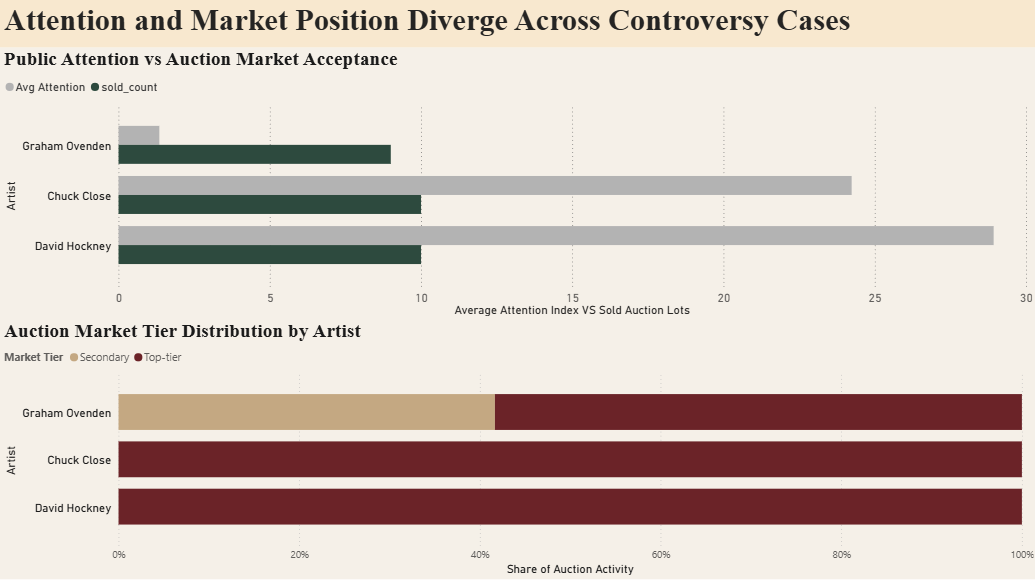

The page's visual inventory and layout, read from the dashboard file:
{"tool":"powerbi","page":{"name":"Attention & Market Position","canvas":[1280,720],"ordinal":2},"visuals":[{"type":"textbox","box":[0,0,1280.5,61.3],"z":0},{"type":"clusteredBarChart","title":"Public Attention vs Auction Market Acceptance","fields":{"Category":["dim_artist.artist_name"],"Y":["vw_attention_market_monthly.Avg Attention","Sum(vw_attention_market_monthly.sold_count)"]},"box":[0,60.5,1279.4,336.4],"z":1000},{"type":"hundredPercentStackedBarChart","title":"Auction Market Tier Distribution by Artist","fields":{"Category":["dim_artist.artist_name"],"Y":["vw_auction_enriched.Lot Count"],"Series":["vw_auction_enriched.Market Tier"]},"box":[0,396.9,1281.3,321.3],"z":2000}]}

Visuals, with their boxes in screenshot pixels (x1, y1, x2, y2), scaled from the page's 1280x720 canvas onto the 1035x581 screenshot:
textbox: (x1=0, y1=0, x2=1034, y2=49)
"Public Attention vs Auction Market Acceptance" clusteredBarChart: (x1=0, y1=49, x2=1034, y2=320)
"Auction Market Tier Distribution by Artist" hundredPercentStackedBarChart: (x1=0, y1=320, x2=1034, y2=580)
